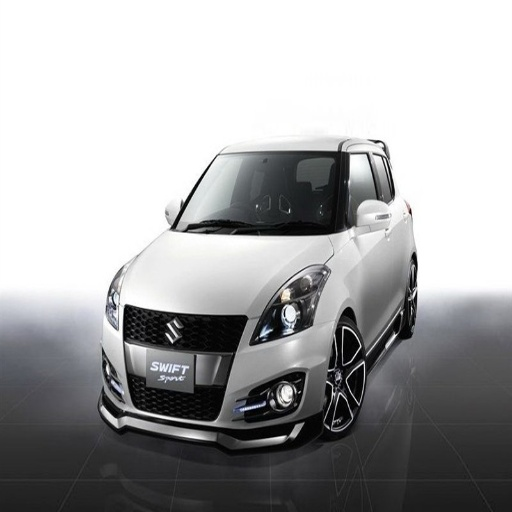front_bumper: (99, 302, 333, 452)
front_glass: (172, 155, 338, 233)
front_left_door: (346, 145, 393, 344)
